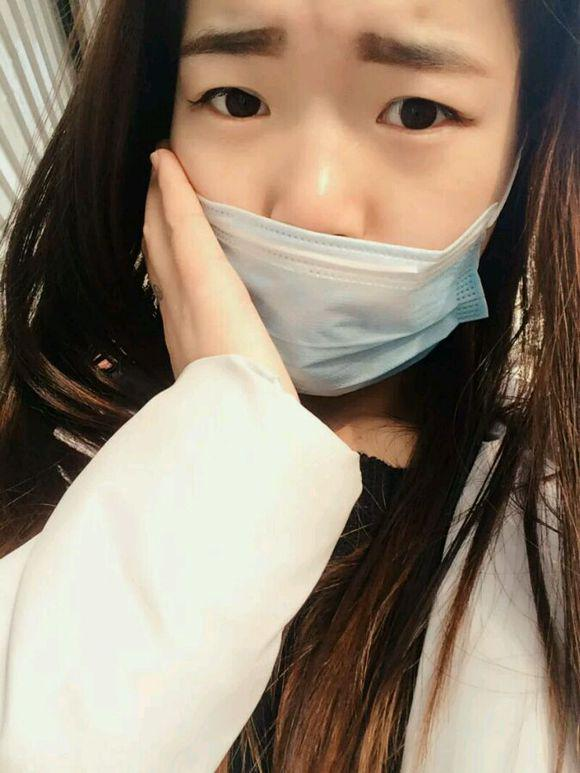WRONG: (157, 18, 518, 379)
